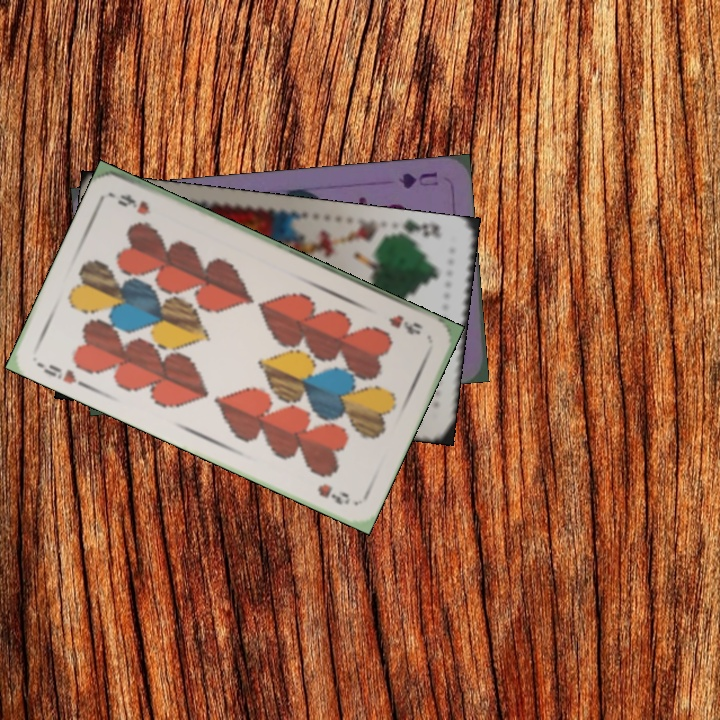GK: (392, 216, 443, 246)
GU: (394, 168, 441, 191)
H9: (39, 360, 90, 391), (384, 310, 425, 338)
